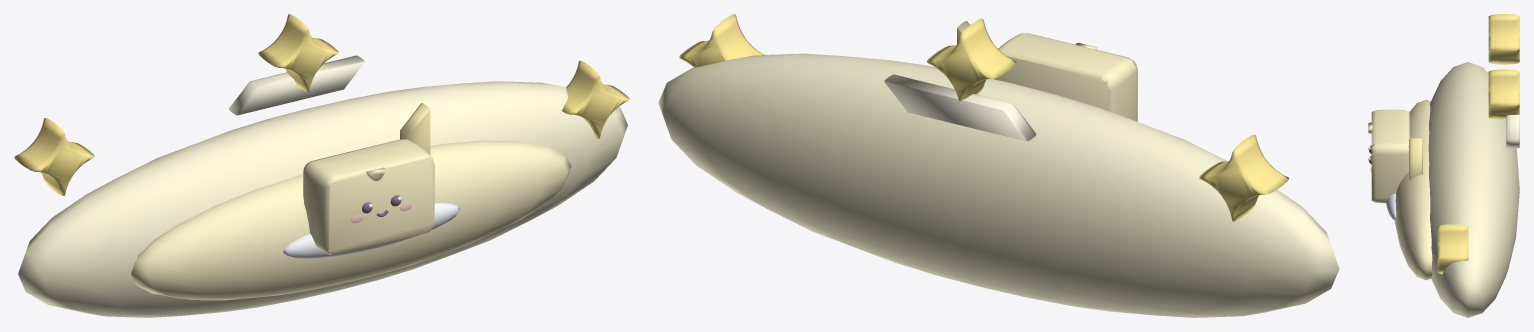
File: decor_5_star.glb
3 renders of one model, left to right at view 1: azimuth 30°, elevation 25°; view 2: azimuth 150°, elevation 25°; view 3: azimuth 270°, elevation 25°, orthographic. The views are drawn at different scales.
Visible parts, largest first — view 1: decor_5_star; view 2: decor_5_star; view 3: decor_5_star.
Part boxes in pixels (box(x1,y1,x2,y2)): decor_5_star: box(14, 14, 629, 317); decor_5_star: box(658, 14, 1339, 317); decor_5_star: box(1368, 14, 1519, 317).
Bounding box in the file's own units: 14.4 × 5.67 × 4.18.
